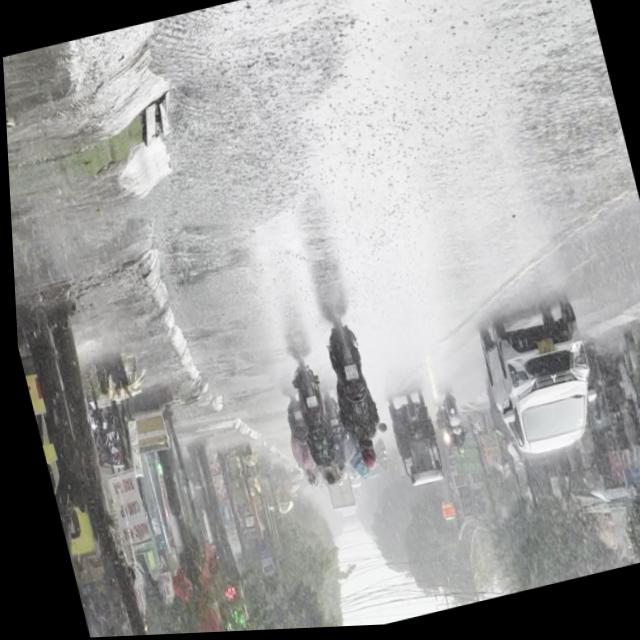helmet: (354, 446, 374, 475)
licenseplate: (312, 315, 389, 484)
nohelmet: (339, 366, 354, 383)
